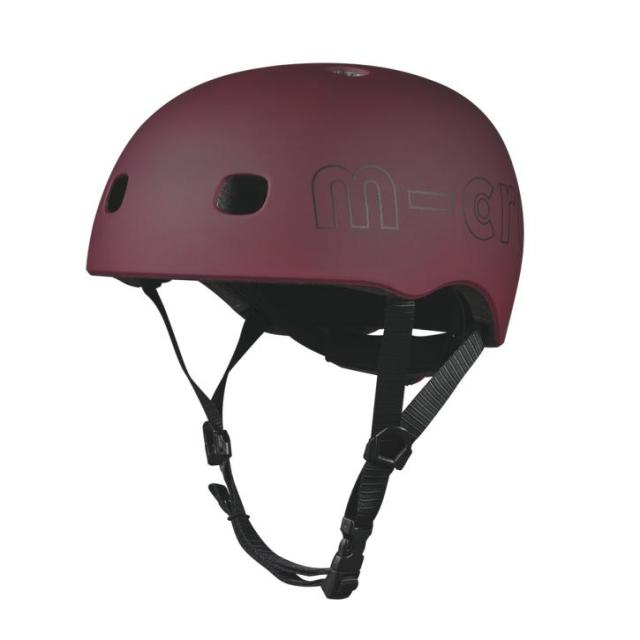Helmet: (85, 60, 527, 351)
